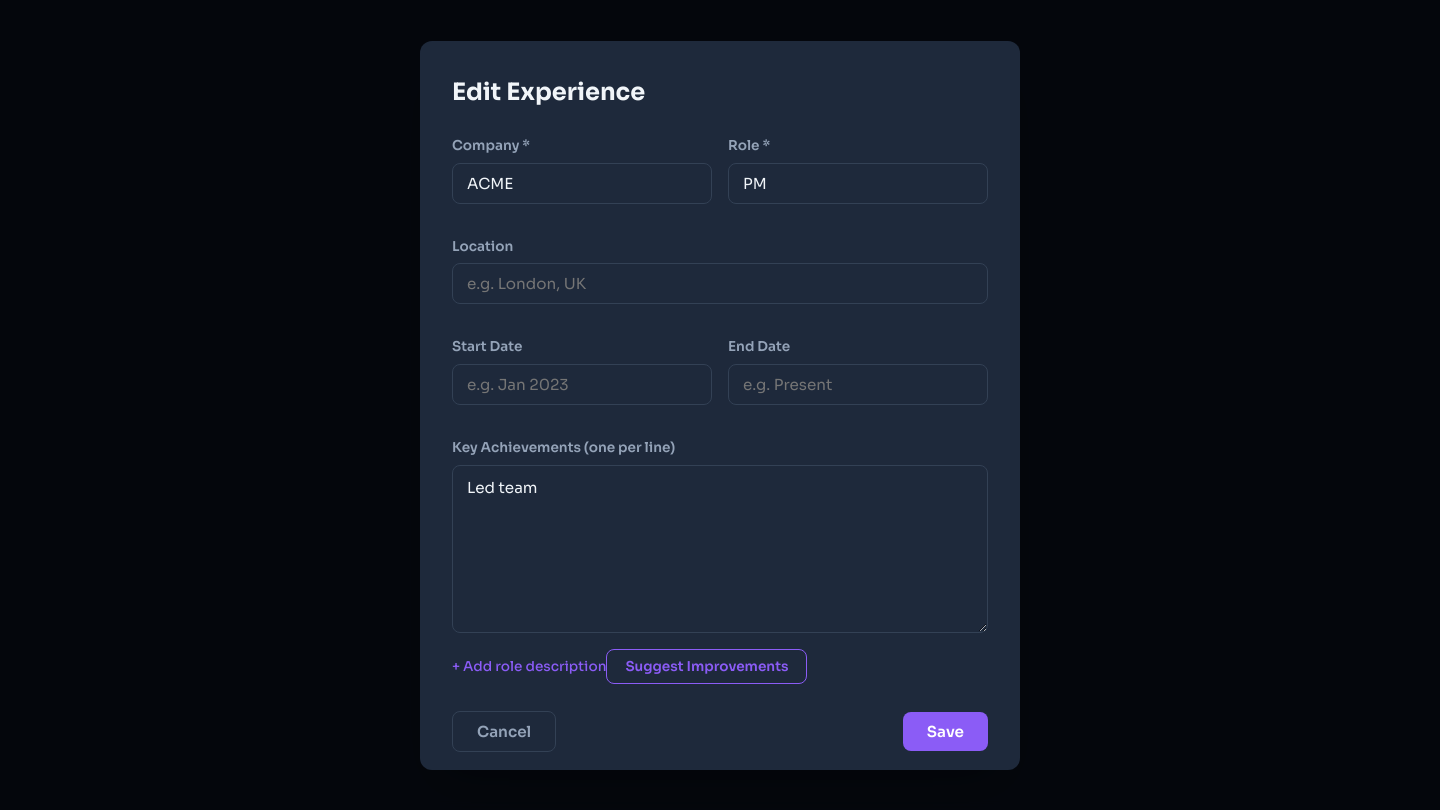
Test: ExperienceForm › shows loading state while suggesting
This screenshot has width=1440, height=810.
Click the button "Suggest Improvements" at (707, 666), box left=606, top=649, right=807, bottom=684
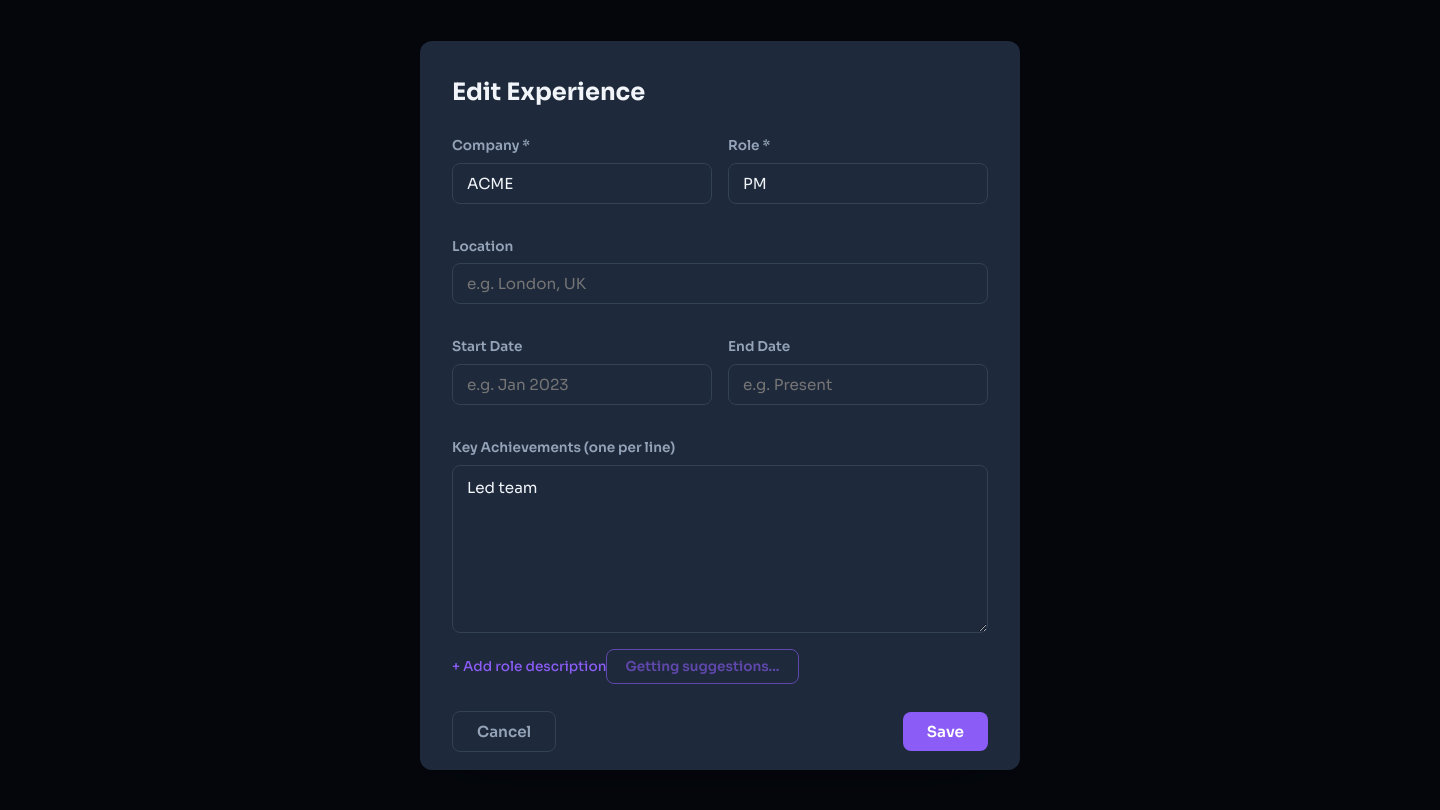
Expected: the button "Getting suggestions..." is shown, left=606, top=649, right=798, bottom=684
